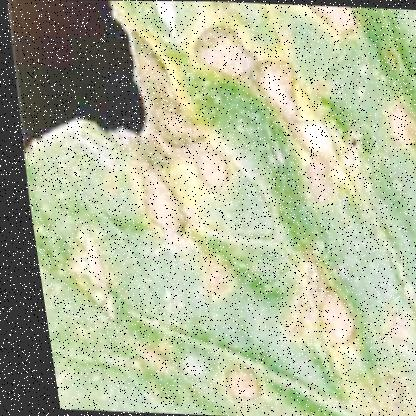AlternariaBrassicicola: (47, 219, 140, 319), (283, 254, 365, 357), (171, 9, 266, 87), (273, 110, 354, 182), (180, 140, 241, 202), (370, 90, 415, 164), (208, 357, 256, 407), (396, 226, 415, 281)
